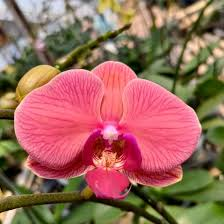orchid: (10, 53, 201, 197)
